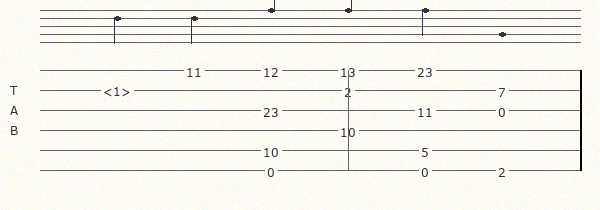0: (267, 164, 279, 177), (421, 164, 433, 177), (498, 104, 510, 117)
10: (263, 144, 283, 157), (340, 124, 360, 137)
11: (186, 64, 206, 77), (417, 104, 437, 117)
12: (263, 64, 283, 77)
13: (340, 64, 360, 77)
2: (344, 84, 356, 97), (498, 164, 510, 177)
23: (263, 104, 283, 117), (417, 64, 437, 77)
5: (421, 144, 433, 157)
7: (498, 84, 510, 97)
harmonic: (103, 83, 135, 97)
